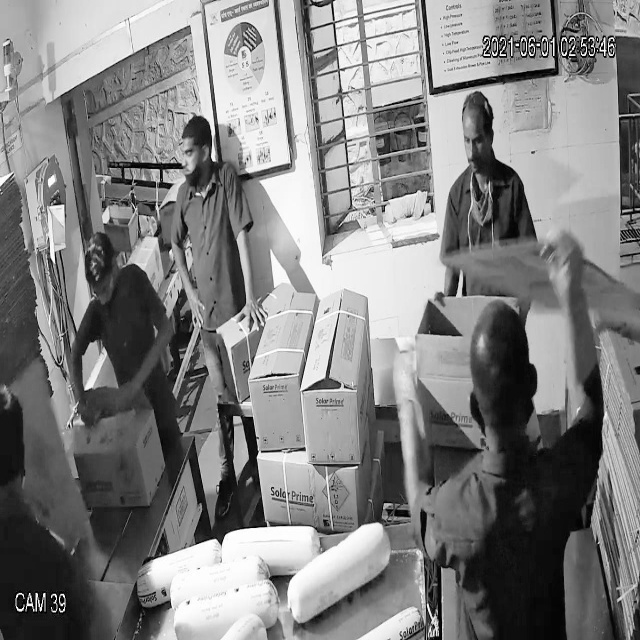Sin_gafas: (454, 124, 498, 157)
